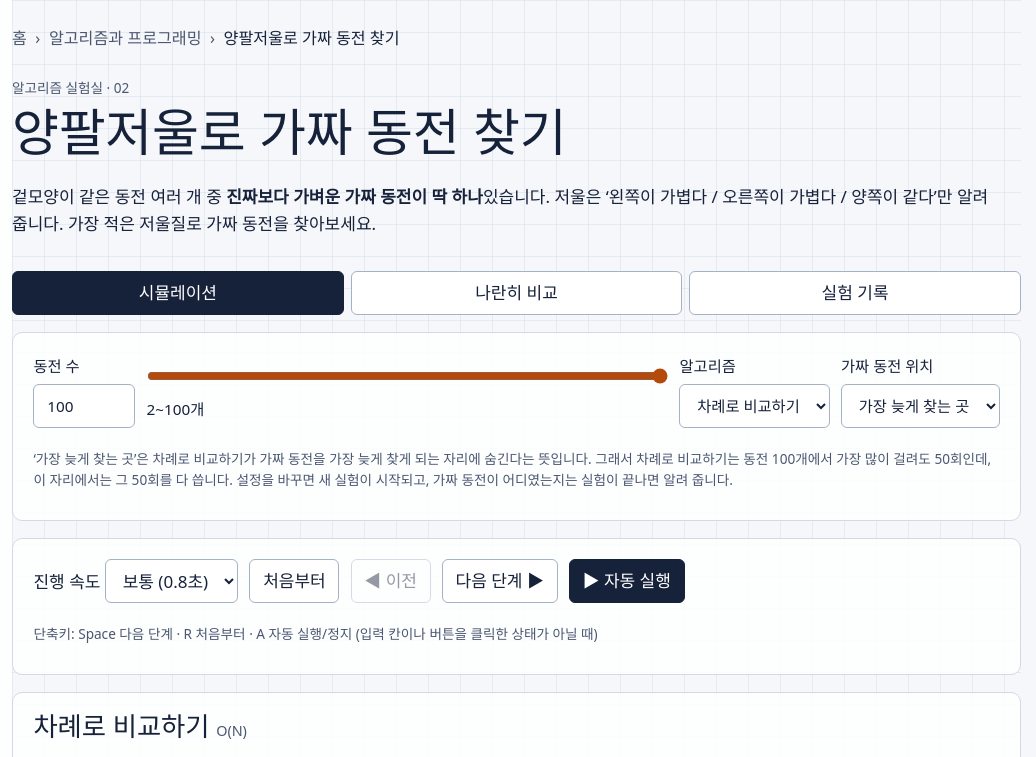
Test: N=100 빠른 자동 실행이 50회에서 종료하고 기록을 저장한다
The image size is (1036, 757).
Select "빠름 (0.4초)" in the dropdown labelled "진행 속도" at (172, 582), box 105,560 -> 238,604
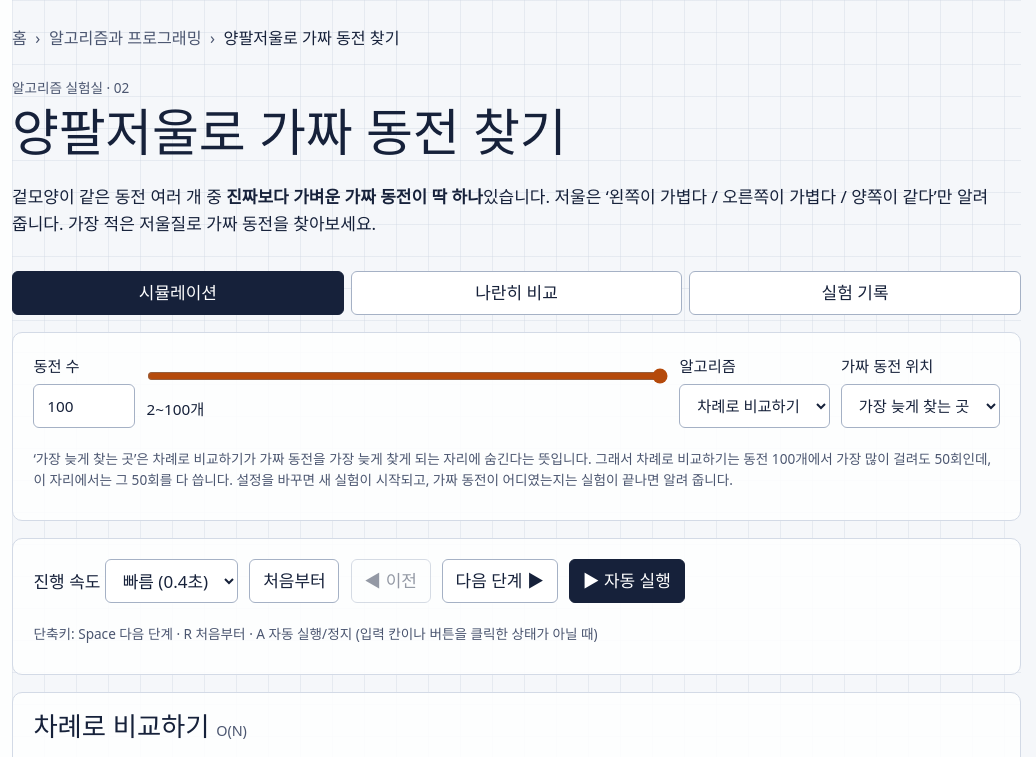
Click the button "▶ 자동 실행" at (627, 582), box 569,560 -> 685,604
Wait 24000 ms
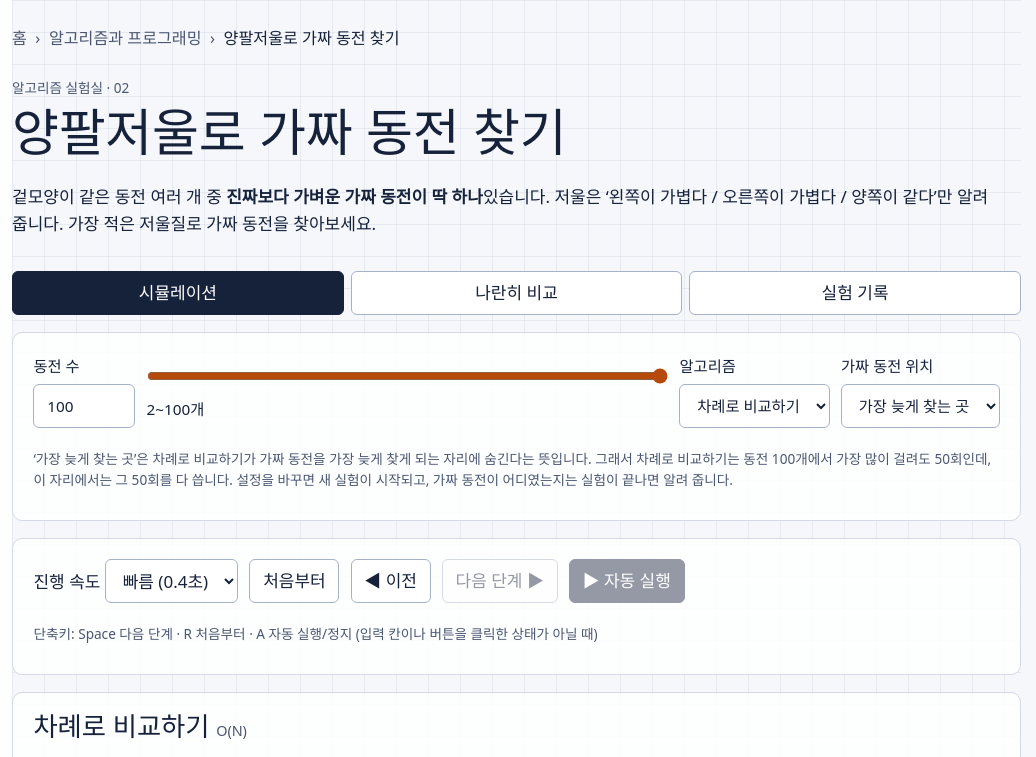
Expected: the button "▶ 자동 실행" is disabled, 569,560 -> 685,604
